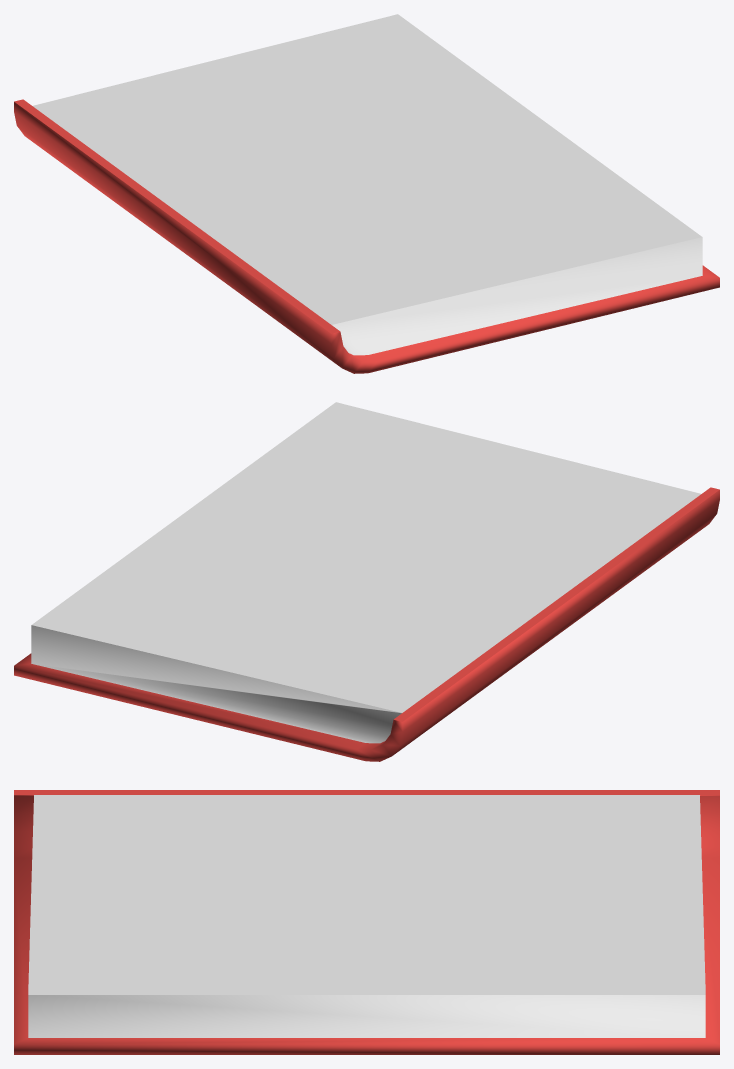
Rendered from halfksiazka.fbx.
The picture shows the model from 3 angles, top to bottom: view 1: azimuth 30°, elevation 25°; view 2: azimuth 150°, elevation 25°; view 3: azimuth 270°, elevation 25°; orthographic projection. The views are drawn at different scales.
Parts seen in each view (by area): view 1: Cube.002; view 2: Cube.002; view 3: Cube.002.
Boxes of the visible parts, left/top/right/bottom form: Cube.002: left=14, top=14, right=719, bottom=373; Cube.002: left=14, top=402, right=719, bottom=761; Cube.002: left=14, top=790, right=719, bottom=1054.
Size of the model in its own units: 420 by 50 by 594.
